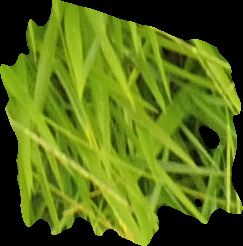grass: (1, 1, 241, 245)
